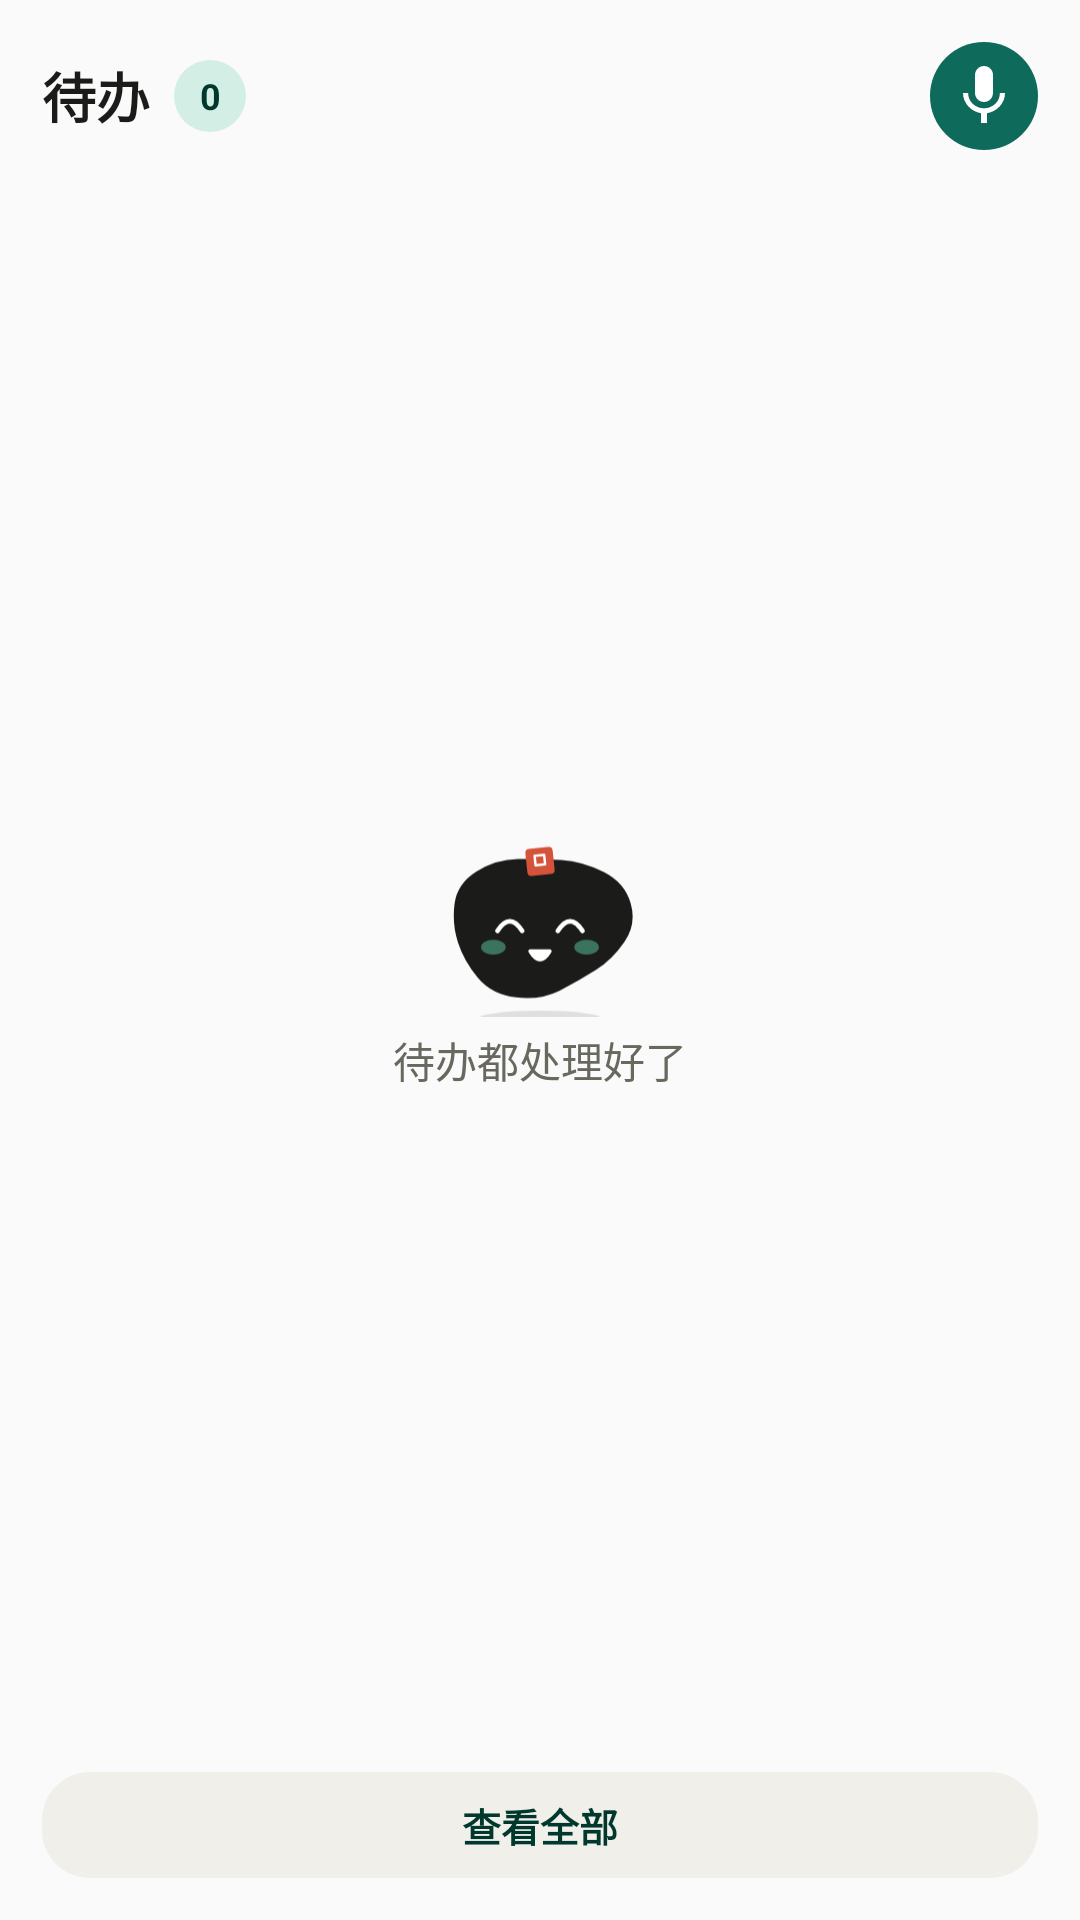

Screen size 1080w x 1920h. Icon name, then its box in pixels as {"left": x1, "top": y1, "right": x2, "bottom": y2}:
spirit happy: {"left": 453, "top": 846, "right": 633, "bottom": 1017}
开始录音: {"left": 930, "top": 42, "right": 1038, "bottom": 150}
